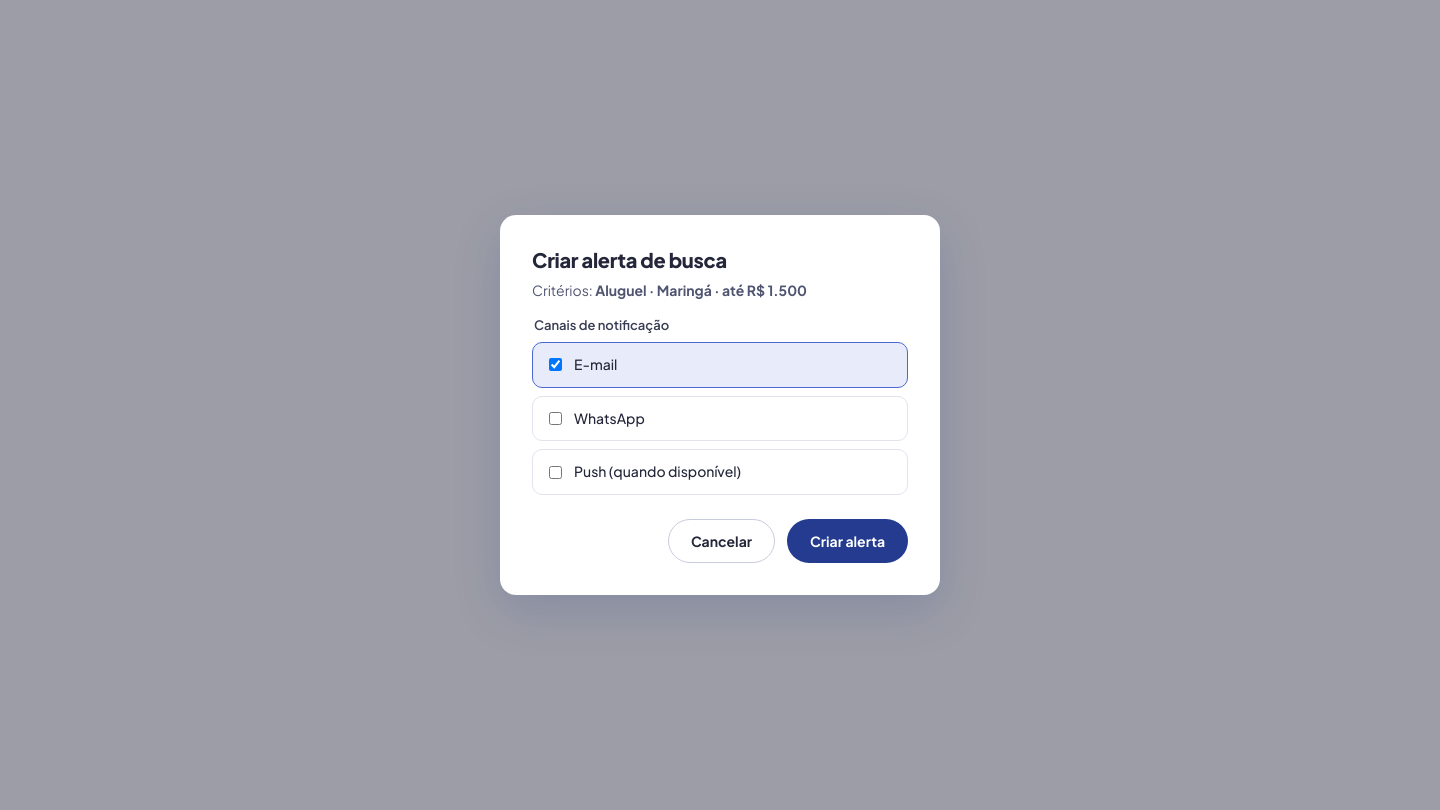
Test case: AlertModal + AlertsPage › creates an alert with selected channels
Click the checkbox labelled "WhatsApp": (556, 418) [549,412,562,425]
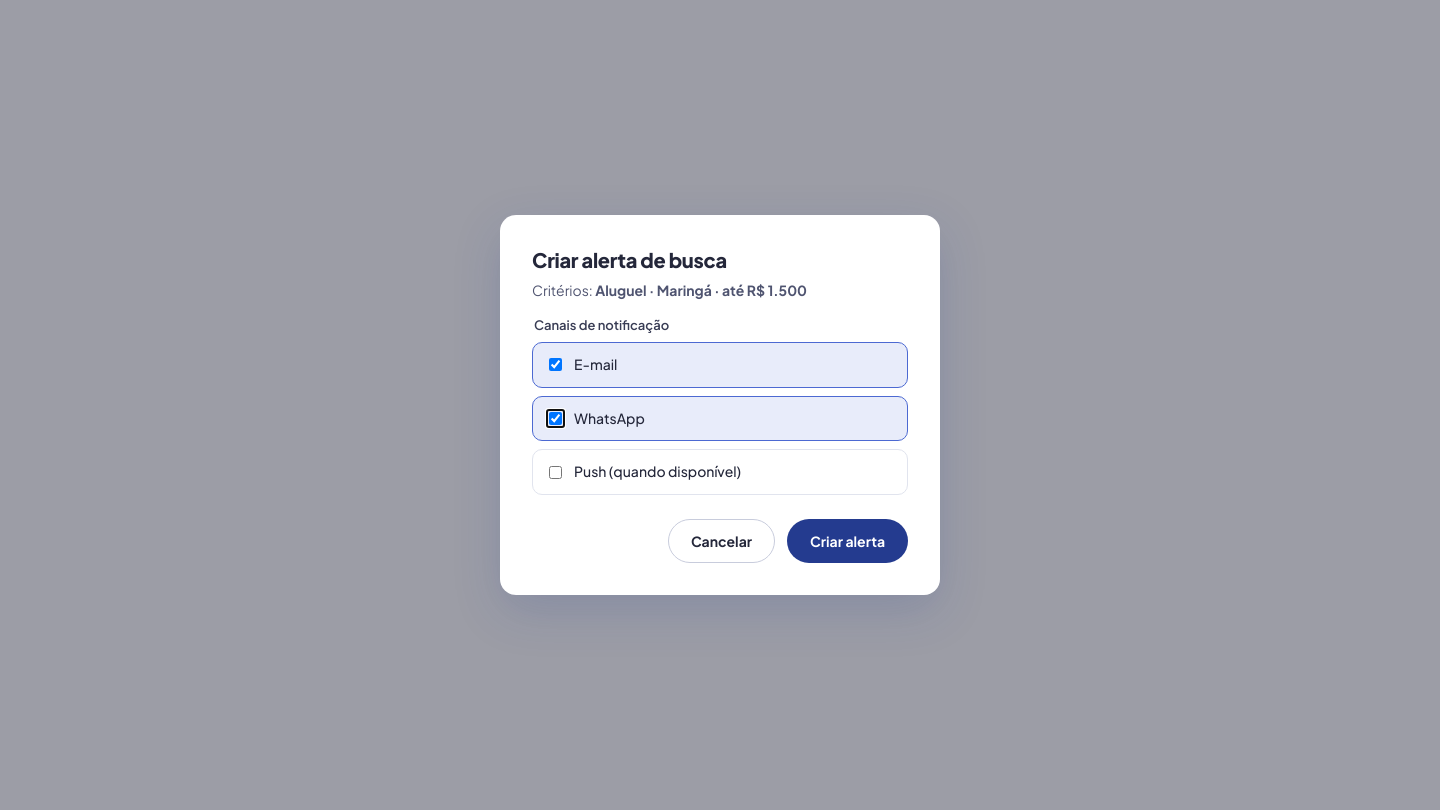
Click the button "Criar alerta": (848, 541) [787,519,908,563]
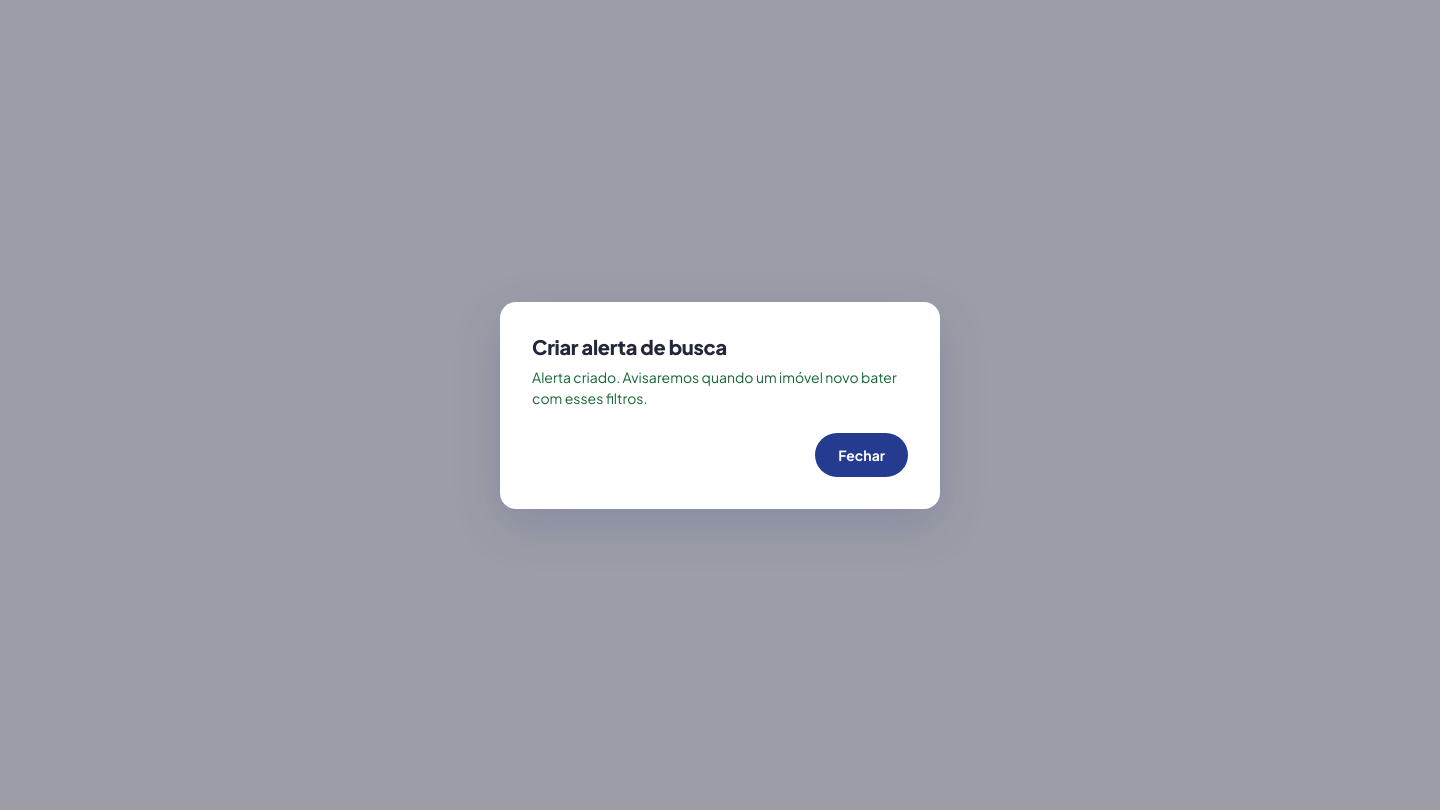
Expected: the message shows "Alerta criado", [532,368,897,406]
